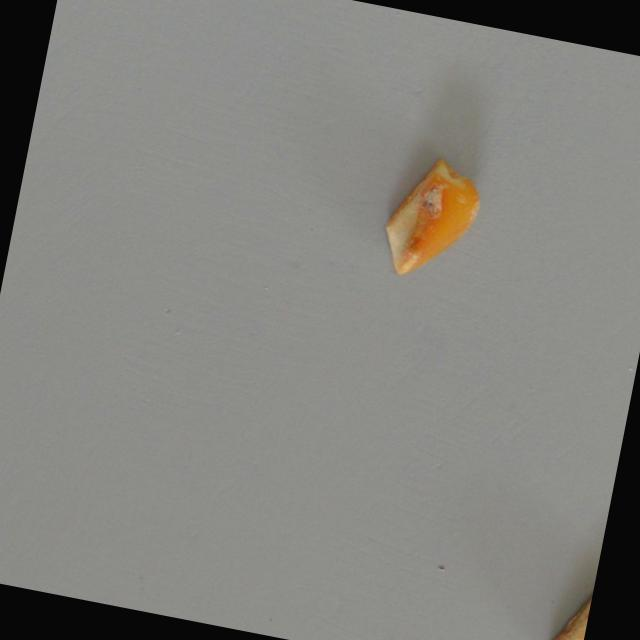dañado: (374, 149, 489, 287), (550, 570, 596, 640)
